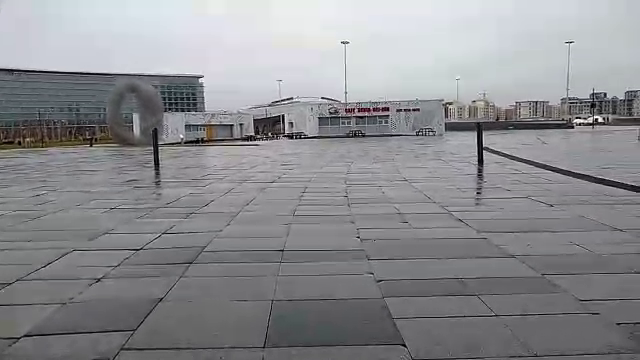kebab: (310, 101, 423, 136)
